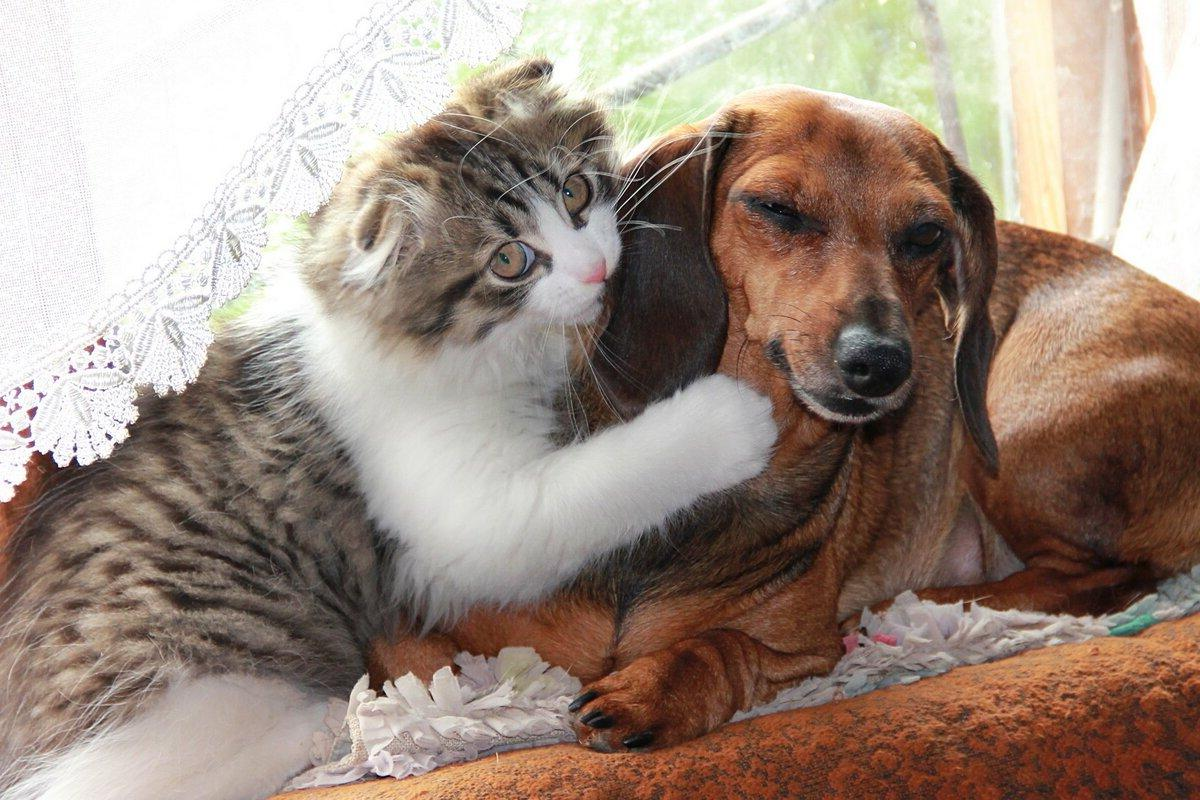animals: (0, 53, 674, 800), (564, 74, 1189, 746)
